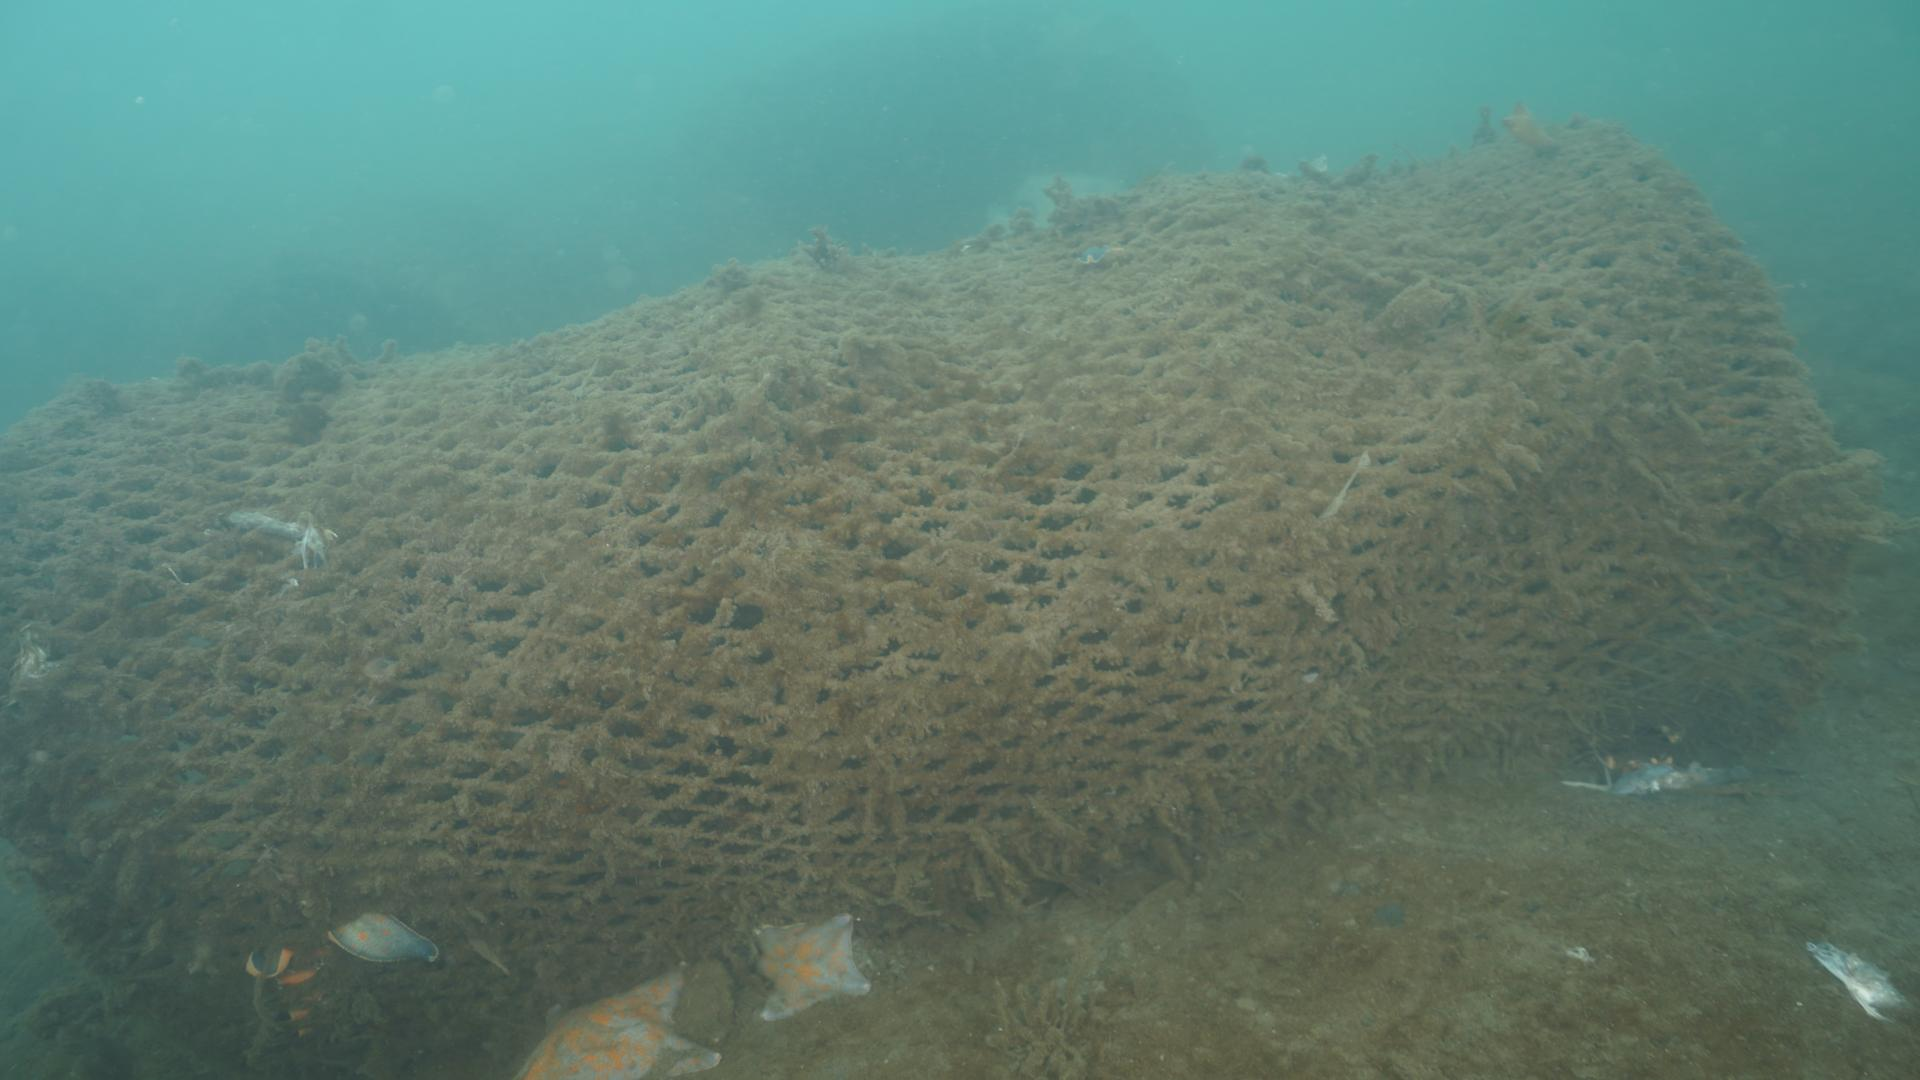spring fish trap: (0, 111, 1844, 1080)
